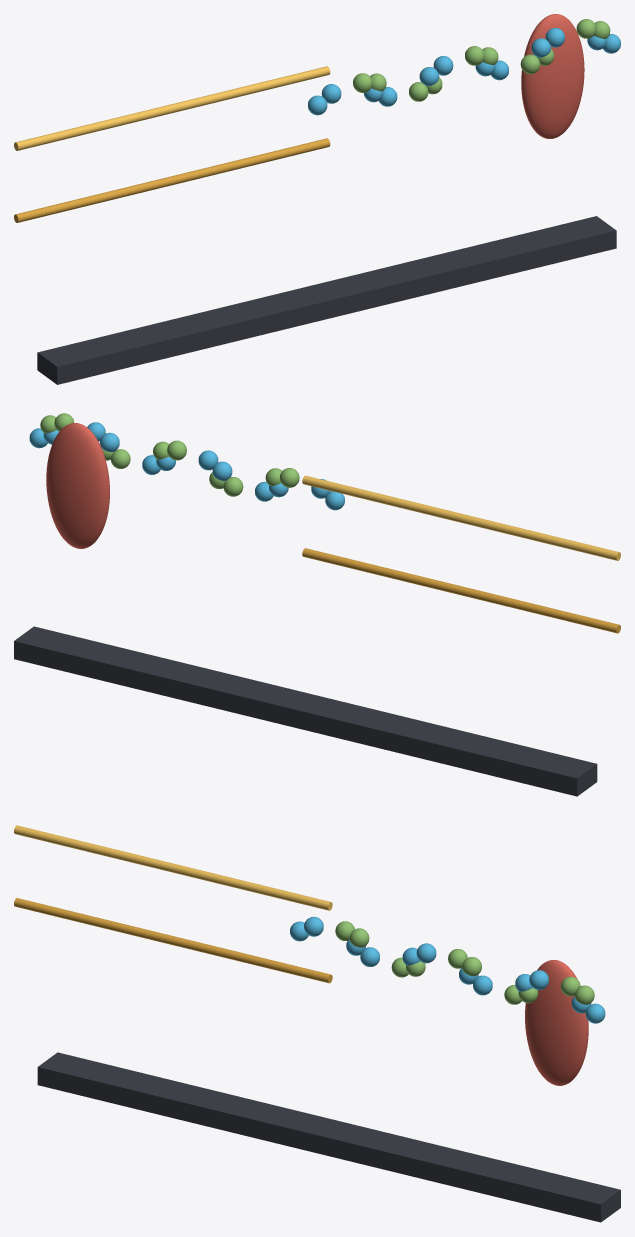
The model's file is physics-sound-pitch.glb.
3 renders of one model, top to bottom at view 1: azimuth 30°, elevation 25°; view 2: azimuth 150°, elevation 25°; view 3: azimuth 330°, elevation 25°, orthographic.
Visible parts, largest first — view 1: quiet-stage-reference-base, listener-ear-detects-tight-frequency, fast-vibrating-string-low-note, fast-vibrating-string-high-note; view 2: quiet-stage-reference-base, listener-ear-detects-tight-frequency, fast-vibrating-string-low-note, fast-vibrating-string-high-note; view 3: quiet-stage-reference-base, listener-ear-detects-tight-frequency, fast-vibrating-string-low-note, fast-vibrating-string-high-note.
Boxes of the visible parts, bbox=[...] form: quiet-stage-reference-base: bbox=[37, 216, 616, 384]; listener-ear-detects-tight-frequency: bbox=[521, 14, 584, 138]; fast-vibrating-string-low-note: bbox=[14, 138, 330, 222]; fast-vibrating-string-high-note: bbox=[14, 66, 330, 150]; quiet-stage-reference-base: bbox=[14, 626, 597, 796]; listener-ear-detects-tight-frequency: bbox=[46, 423, 109, 548]; fast-vibrating-string-low-note: bbox=[302, 548, 620, 633]; fast-vibrating-string-high-note: bbox=[302, 475, 620, 560]; quiet-stage-reference-base: bbox=[37, 1052, 620, 1222]; listener-ear-detects-tight-frequency: bbox=[525, 960, 588, 1085]; fast-vibrating-string-low-note: bbox=[14, 898, 332, 983]; fast-vibrating-string-high-note: bbox=[14, 825, 332, 910].
Size of what is drawn, in the model's own units: 2.76 by 1.08 by 0.1994.
